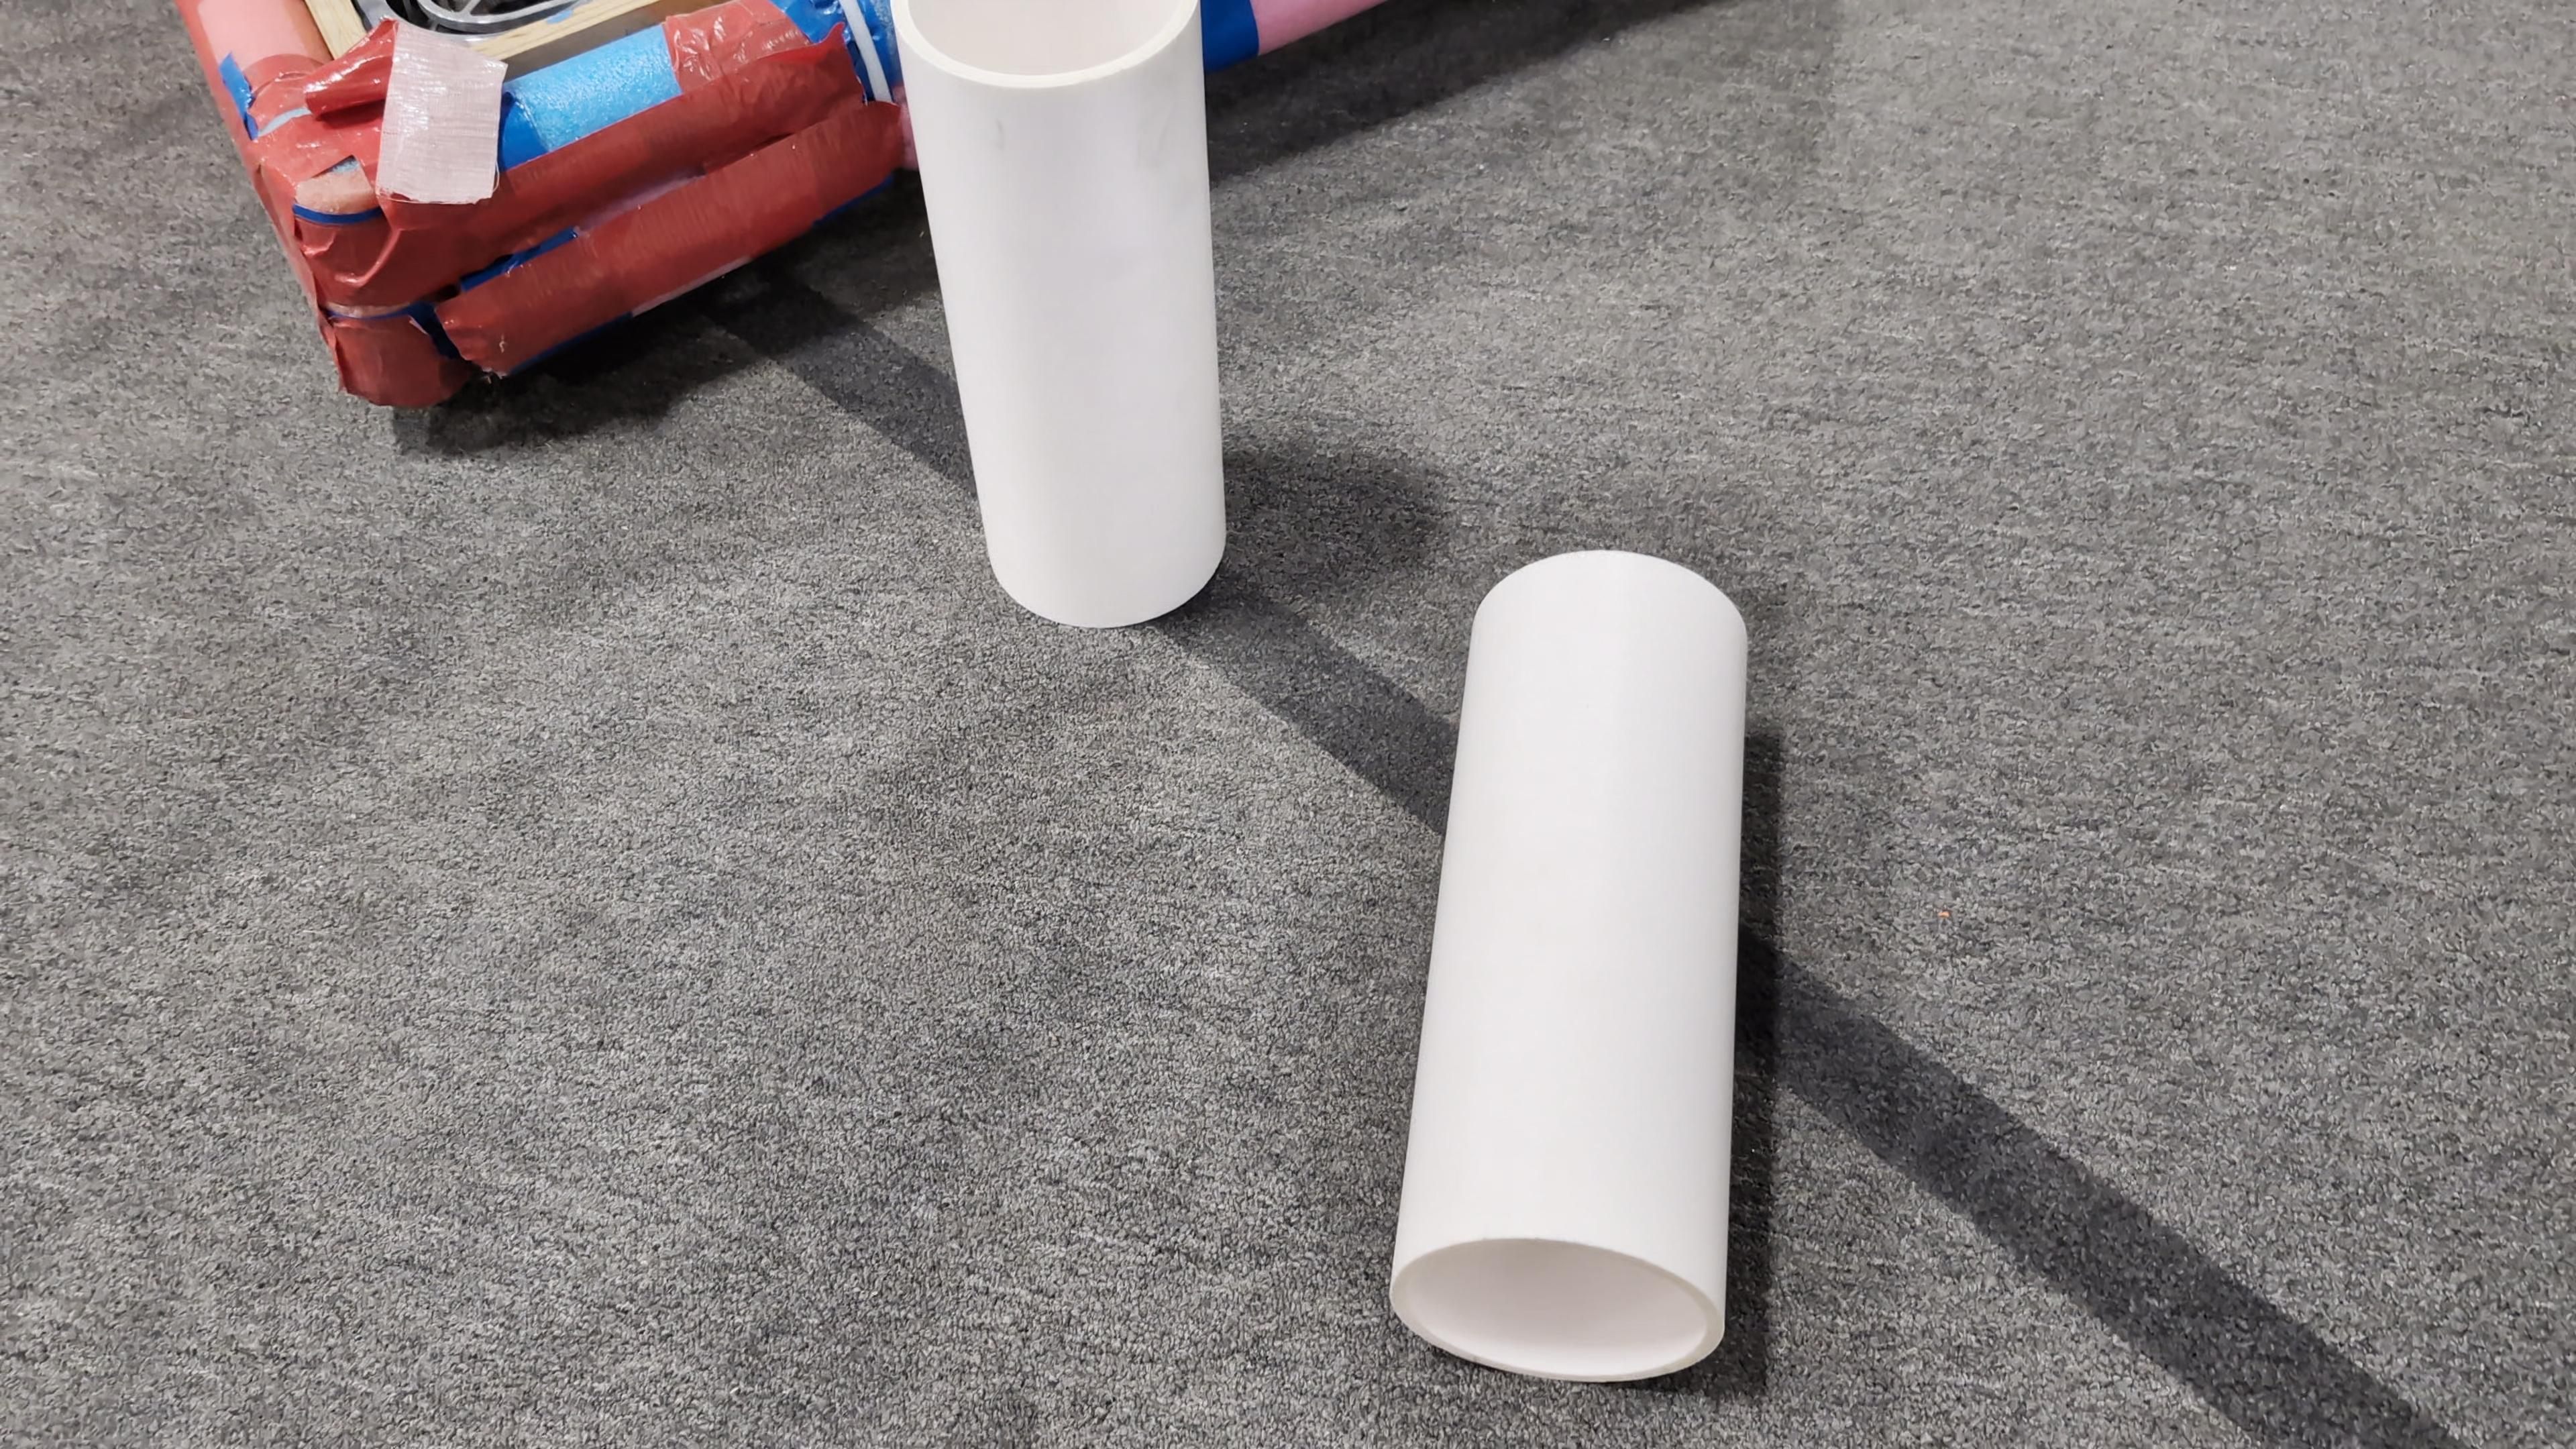coral: (1385, 548, 1750, 1382), (892, 4, 1230, 626)
